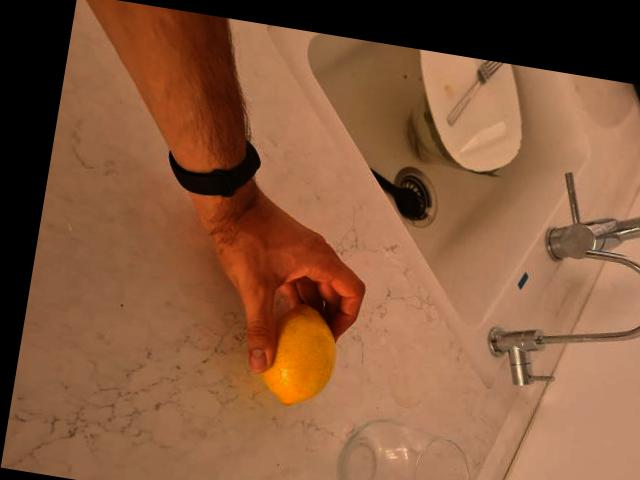lemon: (255, 302, 338, 405)
